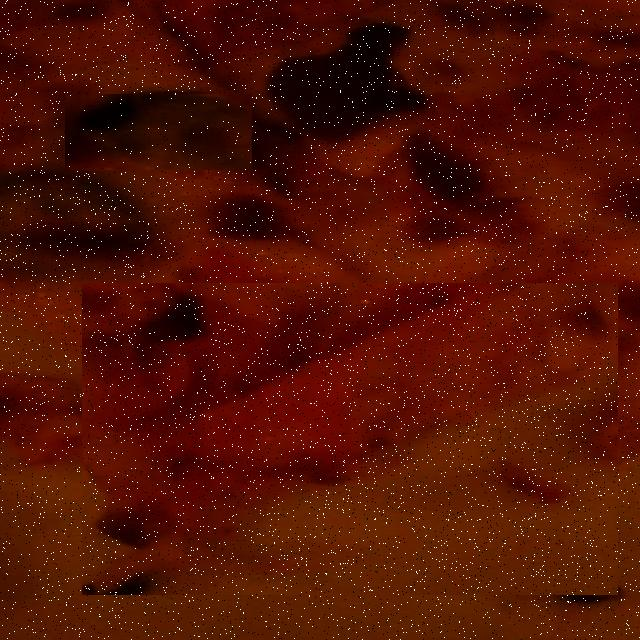Ham: (82, 283, 618, 595)
Olives: (0, 172, 146, 278), (65, 94, 252, 170)
Pizza: (0, 0, 640, 640)
